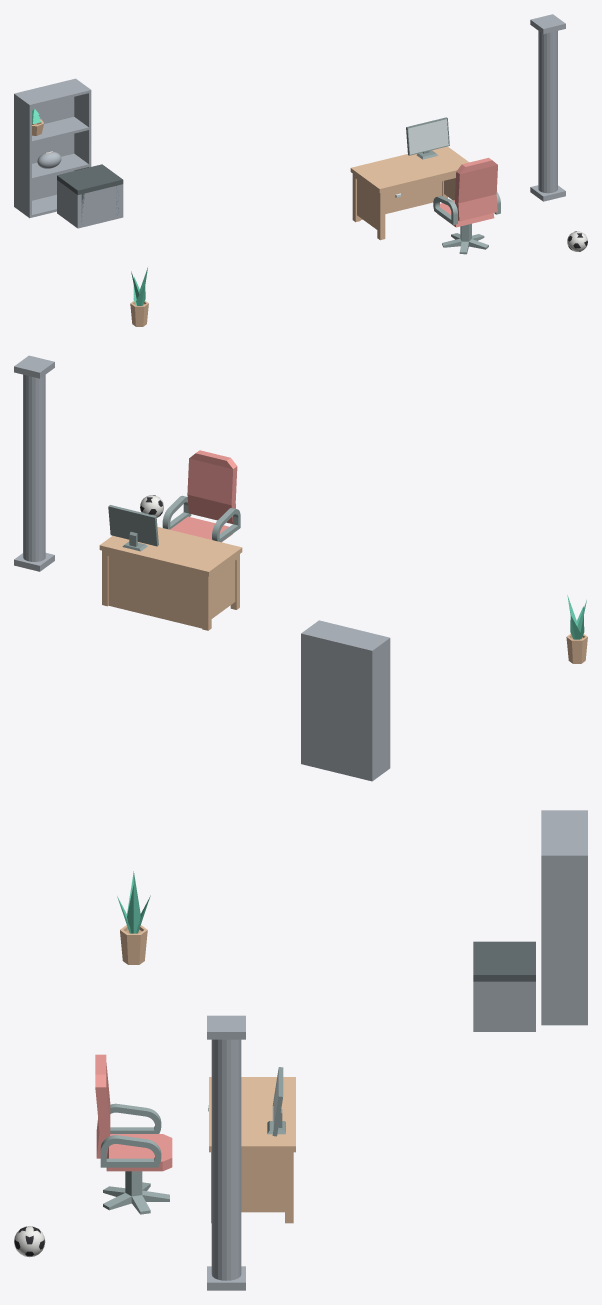
3 views of the same model, one above another, from view 1: azimuth 30°, elevation 25°; view 2: azimuth 150°, elevation 25°; view 3: azimuth 270°, elevation 25° (orthographic). The views are drawn at different scales.
Visible parts, largest first — view 1: desk_blue__desk(Clone), column_cyan__column_cyan shaft, deskchair_black__chair, crate_red__crate_red shell, shelf_orange__shelf_orange back, shelf_orange__shelf_orange side_l, monitor_gray__computerScreen(Clone), crate_red__crate_red lid, shelf_orange__shelf_orange side_r, shelf_orange__shelf_orange board3, shelf_orange__shelf_orange board2, shelf_orange__shelf_orange board1 (+3 smaller); view 2: desk_blue__desk(Clone), shelf_orange__shelf_orange back, deskchair_black__chair, column_cyan__column_cyan shaft, shelf_orange__shelf_orange side_l, monitor_gray__computerScreen(Clone), shelf_orange__shelf_orange board3, column_cyan__column_cyan capital; view 3: shelf_orange__shelf_orange side_r, column_cyan__column_cyan shaft, desk_blue__desk(Clone), deskchair_black__chair, crate_red__crate_red shell, crate_red__crate_red lid, shelf_orange__shelf_orange board3, deskchair_black__chairDesk(Clone), column_cyan__column_cyan capital, plant_pink__pottedPlant(Clone), soccer_white__soccer_white, monitor_gray__computerScreen(Clone) (+1 smaller).
Part boxes in pixels (left/top/right/bottom): desk_blue__desk(Clone): left=350, top=146, right=469, bottom=240; column_cyan__column_cyan shaft: left=538, top=31, right=557, bottom=193; deskchair_black__chair: left=433, top=157, right=500, bottom=227; crate_red__crate_red shell: left=57, top=180, right=123, bottom=228; shelf_orange__shelf_orange back: left=17, top=79, right=74, bottom=200; shelf_orange__shelf_orange side_l: left=14, top=93, right=31, bottom=218; monitor_gray__computerScreen(Clone): left=406, top=117, right=449, bottom=159; crate_red__crate_red lid: left=57, top=164, right=123, bottom=194; shelf_orange__shelf_orange side_r: left=73, top=78, right=91, bottom=170; shelf_orange__shelf_orange board3: left=18, top=80, right=88, bottom=106; shelf_orange__shelf_orange board2: left=32, top=117, right=88, bottom=143; shelf_orange__shelf_orange board1: left=32, top=153, right=88, bottom=180; desk_blue__desk(Clone): left=99, top=526, right=242, bottom=630; shelf_orange__shelf_orange back: left=304, top=633, right=369, bottom=780; deskchair_black__chair: left=162, top=450, right=240, bottom=542; column_cyan__column_cyan shaft: left=23, top=374, right=45, bottom=561; shelf_orange__shelf_orange side_l: left=369, top=637, right=390, bottom=781; monitor_gray__computerScreen(Clone): left=108, top=505, right=158, bottom=551; shelf_orange__shelf_orange board3: left=305, top=621, right=386, bottom=649; column_cyan__column_cyan capital: left=14, top=355, right=54, bottom=378; shelf_orange__shelf_orange side_r: left=541, top=853, right=587, bottom=1025; column_cyan__column_cyan shaft: left=211, top=1039, right=241, bottom=1280; desk_blue__desk(Clone): left=209, top=1077, right=295, bottom=1223; deskchair_black__chair: left=95, top=1054, right=172, bottom=1171; crate_red__crate_red shell: left=473, top=981, right=535, bottom=1031; crate_red__crate_red lid: left=473, top=941, right=535, bottom=981; shelf_orange__shelf_orange board3: left=541, top=812, right=584, bottom=853; deskchair_black__chairDesk(Clone): left=103, top=1171, right=169, bottom=1214; column_cyan__column_cyan capital: left=207, top=1015, right=245, bottom=1039; plant_pink__pottedPlant(Clone): left=120, top=925, right=147, bottom=964; soccer_white__soccer_white: left=14, top=1226, right=45, bottom=1257; monitor_gray__computerScreen(Clone): left=267, top=1067, right=285, bottom=1136.
Bounding box in the file's own units: 5.57 × 2 × 4.02.
